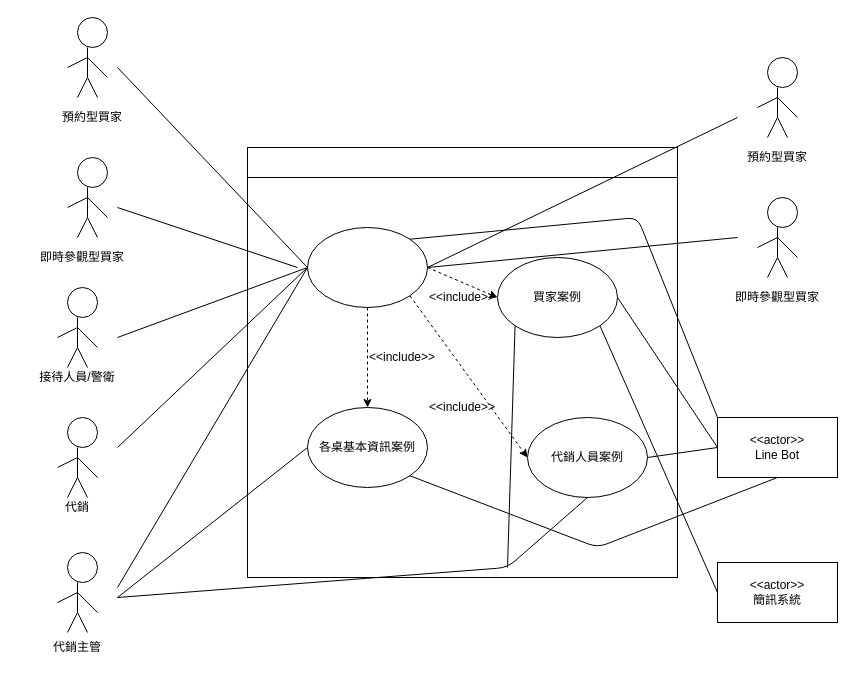
The diagram is 855 pixels wide and 695 high, and some of its shapes have lost their labels. Each missing label, with the box of its shape:
買房接洽系統(前台後台): (246, 146, 678, 178)
預約時段申請案例: (306, 226, 428, 308)
